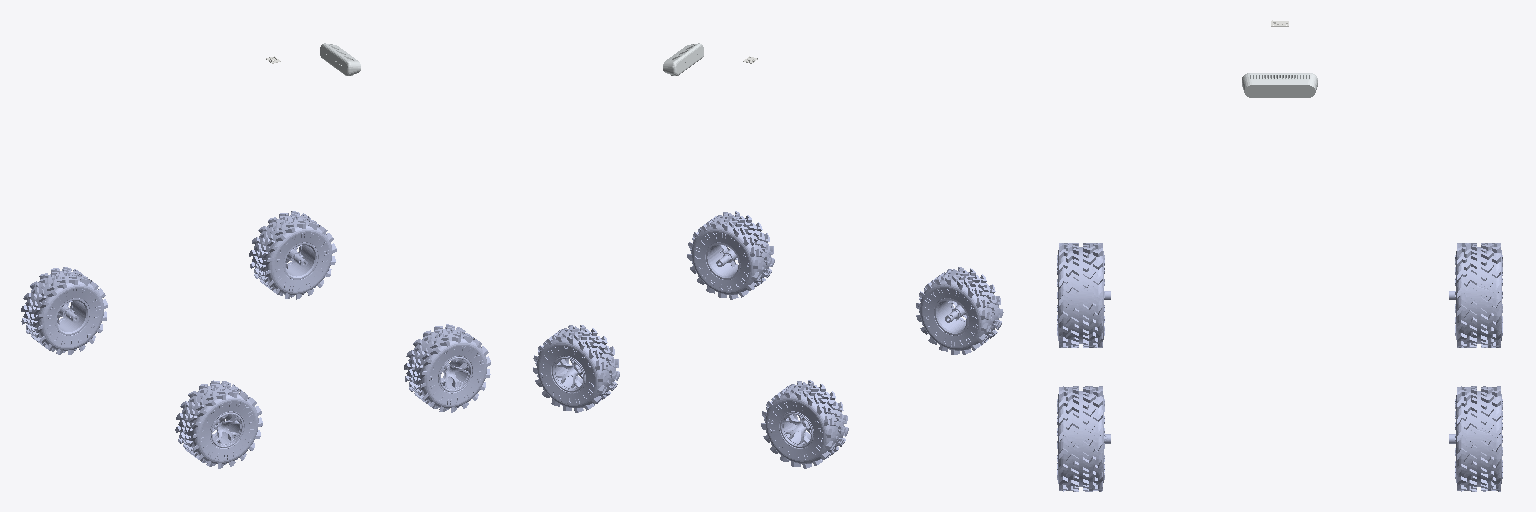
The robot description file, URDF, robot "assembly_robot":
<?xml version="1.0" encoding="utf-8"?>
<!-- This URDF was automatically created by SolidWorks to URDF Exporter! Originally created by [author] ([email redacted]) 
     Commit Version: 1.6.0-4-g7f85cfe  Build Version: 1.6.7995.38578
     For more information, please see http://wiki.ros.org/sw_urdf_exporter -->
<robot name="assembly_robot">
  <link
    name="base_link">
    <inertial>
      <origin
        xyz="-0.00607831531098264 -0.00512421696887815 -0.0263772181345172"
        rpy="0 0 0" />
      <mass
        value="2.48754704881188" />
      <inertia
        ixx="0.00465292752967977"
        ixy="-6.62893966151593E-05"
        ixz="4.42178910535028E-06"
        iyy="0.0107189940020866"
        iyz="-7.99081889825504E-09"
        izz="0.010416417249494" />
    </inertial>
    <visual>
      <origin
        xyz="0 0 0"
        rpy="0 0 0" />
      <geometry>
        <mesh
          filename="package://agri_robot_description/meshes/visual/base_link.STL" />
      </geometry>
      <material
        name="">
        <color
          rgba="0.792156862745098 0.819607843137255 0.933333333333333 1" />
      </material>
    </visual>
    <collision>
      <origin
        xyz="0 0 0"
        rpy="0 0 0" />
      <geometry>
        <mesh
          filename="package://agri_robot_description/meshes/visual/base_link.STL" />
      </geometry>
    </collision>
  </link>
  <link
    name="Lidar_Link">
    <inertial>
      <origin
        xyz="-0.000240206033289558 -0.000120539643168349 0.0151604670149083"
        rpy="0 0 0" />
      <mass
        value="0.0339052137611754" />
      <inertia
        ixx="1.94189565252121E-05"
        ixy="1.42920437917507E-09"
        ixz="4.00833228196001E-08"
        iyy="1.90727024540594E-05"
        iyz="-8.73425222883216E-10"
        izz="3.67628950450108E-05" />
    </inertial>
    <visual>
      <origin
        xyz="0 0 0"
        rpy="0 0 0" />
      <geometry>
        <mesh
          filename="package://agri_robot_description/meshes/visual/Lidar_Link.STL" />
      </geometry>
      <material
        name="">
        <color
          rgba="0 0 0 1" />
      </material>
    </visual>
    <collision>
      <origin
        xyz="0 0 0"
        rpy="0 0 0" />
      <geometry>
        <mesh
          filename="package://agri_robot_description/meshes/visual/Lidar_Link.STL" />
      </geometry>
    </collision>
  </link>
  <joint
    name="Lidar_Joint"
    type="fixed">
    <origin
      xyz="0.0815 -0.005 0.3095"
      rpy="0 0 3.14" />
    <parent
      link="base_link" />
    <child
      link="Lidar_Link" />
    <axis
      xyz="0 0 0" />
  </joint>
  <link
    name="Camera_Link">
    <inertial>
      <origin
        xyz="0.0115560001022054 1.13963025803439E-05 -0.000135981056031798"
        rpy="0 0 0" />
      <mass
        value="0.107910962085184" />
      <inertia
        ixx="7.125547603814E-05"
        ixy="-1.79323689190024E-08"
        ixz="4.92245535458186E-08"
        iyy="7.71021803909149E-06"
        iyz="-2.60666513687486E-10"
        izz="7.02570506402702E-05" />
    </inertial>
    <visual>
      <origin
        xyz="0 0 0"
        rpy="0 0 0" />
      <geometry>
        <mesh
          filename="package://agri_robot_description/meshes/visual/Camera_Link.STL" />
      </geometry>
      <material
        name="">
        <color
          rgba="0.898039215686275 0.917647058823529 0.929411764705882 1" />
      </material>
    </visual>
    <collision>
      <origin
        xyz="0 0 0"
        rpy="0 0 0" />
      <geometry>
        <mesh
          filename="package://agri_robot_description/meshes/visual/Camera_Link.STL" />
      </geometry>
    </collision>
  </link>
  <joint
    name="Camera_Joint"
    type="fixed">
    <origin
      xyz="0.12911 -0.0051242 0.28676"
      rpy="0 0.17453 0" />
    <parent
      link="base_link" />
    <child
      link="Camera_Link" />
    <axis
      xyz="0 0 0" />
  </joint>
  <link
    name="MPU_Link">
    <inertial>
      <origin
        xyz="-0.00753938070397704 0.0102879760847154 -0.00030420688882582"
        rpy="0 0 0" />
      <mass
        value="0.000351250881223519" />
      <inertia
        ixx="9.45690179472922E-09"
        ixy="-2.68793364809838E-13"
        ixz="-4.16573010640559E-25"
        iyy="5.23526656779839E-09"
        iyz="-2.56467873988509E-23"
        izz="1.46360849067925E-08" />
    </inertial>
    <visual>
      <origin
        xyz="0 0 0"
        rpy="0 0 0" />
      <geometry>
        <mesh
          filename="package://agri_robot_description/meshes/visual/MPU_Link.STL" />
      </geometry>
      <material
        name="">
        <color
          rgba="0.964705882352941 0.964705882352941 0.952941176470588 1" />
      </material>
    </visual>
    <collision>
      <origin
        xyz="0 0 0"
        rpy="0 0 0" />
      <geometry>
        <mesh
          filename="package://agri_robot_description/meshes/visual/MPU_Link.STL" />
      </geometry>
    </collision>
  </link>
  <joint
    name="MPU_Joint"
    type="fixed">
    <origin
      xyz="0.030144 -0.015255 0.31158"
      rpy="0 0 0" />
    <parent
      link="base_link" />
    <child
      link="MPU_Link" />
    <axis
      xyz="0 0 0" />
  </joint>
  <link
    name="Front_Left_Wheel_Link">
    <inertial>
      <origin
        xyz="0.0354775820566569 -1.045316723014E-06 -6.15237786466549E-07"
        rpy="0 0 0" />
      <mass
        value="0.093265100168023" />
      <inertia
        ixx="0.000225278175659469"
        ixy="-9.60114563118981E-10"
        ixz="-5.18985270835741E-10"
        iyy="0.000141708195102764"
        iyz="3.24185964365183E-10"
        izz="0.000141707983353066" />
    </inertial>
    <visual>
      <origin
        xyz="0 0 0"
        rpy="0 0 0" />
      <geometry>
        <mesh
          filename="package://agri_robot_description/meshes/visual/Front_Left_Wheel_Link.STL" />
      </geometry>
      <material
        name="">
        <color
          rgba="0.792156862745098 0.819607843137255 0.933333333333333 1" />
      </material>
    </visual>
    <collision>
      <origin
        xyz="0 0 0"
        rpy="0 0 0" />
      <geometry>
        <mesh
          filename="package://agri_robot_description/meshes/visual/Front_Left_Wheel_Link.STL" />
      </geometry>
    </collision>
  </link>
  <joint
    name="Front_Left_Wheel_Joint"
    type="fixed">
    <origin
      xyz="0.19358 0.19656 -0.15442"
      rpy="0 0 1.5708" />
    <parent
      link="base_link" />
    <child
      link="Front_Left_Wheel_Link" />
    <axis
      xyz="0 0 0" />
  </joint>
  <link
    name="Front_Right_Wheel_Link">
    <inertial>
      <origin
        xyz="0.0354775820565962 -1.04531662940832E-06 -6.1523790778617E-07"
        rpy="0 0 0" />
      <mass
        value="0.093265100167896" />
      <inertia
        ixx="0.000225278175659321"
        ixy="-9.60114660738585E-10"
        ixz="-5.18985183119554E-10"
        iyy="0.00014170819510267"
        iyz="3.24185872685103E-10"
        izz="0.000141707983352871" />
    </inertial>
    <visual>
      <origin
        xyz="0 0 0"
        rpy="0 0 0" />
      <geometry>
        <mesh
          filename="package://agri_robot_description/meshes/visual/Front_Right_Wheel_Link.STL" />
      </geometry>
      <material
        name="">
        <color
          rgba="0.792156862745098 0.819607843137255 0.933333333333333 1" />
      </material>
    </visual>
    <collision>
      <origin
        xyz="0 0 0"
        rpy="0 0 0" />
      <geometry>
        <mesh
          filename="package://agri_robot_description/meshes/visual/Front_Right_Wheel_Link.STL" />
      </geometry>
    </collision>
  </link>
  <joint
    name="Front_Right_Wheel_Joint"
    type="fixed">
    <origin
      xyz="0.19358 -0.2068 -0.15442"
      rpy="0 0 -1.5708" />
    <parent
      link="base_link" />
    <child
      link="Front_Right_Wheel_Link" />
    <axis
      xyz="0 0 0" />
  </joint>
  <link
    name="Rear_Left_Wheel_Link">
    <inertial>
      <origin
        xyz="0.0354775820566849 -1.0453167693103E-06 -6.15237769507893E-07"
        rpy="0 0 0" />
      <mass
        value="0.0932651001684448" />
      <inertia
        ixx="0.000225278175659472"
        ixy="-9.6011453288276E-10"
        ixz="-5.18985305436607E-10"
        iyy="0.000141708195102837"
        iyz="3.24185952075996E-10"
        izz="0.000141707983353001" />
    </inertial>
    <visual>
      <origin
        xyz="0 0 0"
        rpy="0 0 0" />
      <geometry>
        <mesh
          filename="package://agri_robot_description/meshes/visual/Rear_Left_Wheel_Link.STL" />
      </geometry>
      <material
        name="">
        <color
          rgba="0.792156862745098 0.819607843137255 0.933333333333333 1" />
      </material>
    </visual>
    <collision>
      <origin
        xyz="0 0 0"
        rpy="0 0 0" />
      <geometry>
        <mesh
          filename="package://agri_robot_description/meshes/visual/Rear_Left_Wheel_Link.STL" />
      </geometry>
    </collision>
  </link>
  <joint
    name="Rear_Left_Wheel_Link"
    type="fixed">
    <origin
      xyz="-0.21042 0.19656 -0.15442"
      rpy="0 0 1.5708" />
    <parent
      link="base_link" />
    <child
      link="Rear_Left_Wheel_Link" />
    <axis
      xyz="0 0 0" />
  </joint>
  <link
    name="Rear_Right_Wheel_Link">
    <inertial>
      <origin
        xyz="0.0354775820466632 -1.04527652980413E-06 -6.15225794031726E-07"
        rpy="0 0 0" />
      <mass
        value="0.0932651001664936" />
      <inertia
        ixx="0.000225278175672297"
        ixy="-9.60324391270414E-10"
        ixz="-5.18985118068264E-10"
        iyy="0.000141708195107804"
        iyz="3.24189897011909E-10"
        izz="0.000141707983376632" />
    </inertial>
    <visual>
      <origin
        xyz="0 0 0"
        rpy="0 0 0" />
      <geometry>
        <mesh
          filename="package://agri_robot_description/meshes/visual/Rear_Right_Wheel_Link.STL" />
      </geometry>
      <material
        name="">
        <color
          rgba="0.792156862745098 0.819607843137255 0.933333333333333 1" />
      </material>
    </visual>
    <collision>
      <origin
        xyz="0 0 0"
        rpy="0 0 0" />
      <geometry>
        <mesh
          filename="package://agri_robot_description/meshes/visual/Rear_Right_Wheel_Link.STL" />
      </geometry>
    </collision>
  </link>
  <joint
    name="Rear_Right_Wheel_Joint"
    type="fixed">
    <origin
      xyz="-0.21042 -0.2068 -0.15442"
      rpy="1.6003 0 -1.5708" />
    <parent
      link="base_link" />
    <child
      link="Rear_Right_Wheel_Link" />
    <axis
      xyz="0 0 0" />
  </joint>
</robot>

--- Facts derived from the render (not from the file) ---
Views: 3 orthographic renders of the robot side by side, from view 1: azimuth 30°, elevation 25°; view 2: azimuth 150°, elevation 25°; view 3: azimuth 270°, elevation 25°.
Model assembly_robot with 8 links and 7 joints (7 fixed), rooted at base_link, posed every joint at zero.
Visible links, largest first — view 1: Rear_Right_Wheel_Link, Rear_Left_Wheel_Link, Front_Left_Wheel_Link, Front_Right_Wheel_Link, Camera_Link; view 2: Rear_Left_Wheel_Link, Rear_Right_Wheel_Link, Front_Right_Wheel_Link, Front_Left_Wheel_Link, Camera_Link; view 3: Rear_Left_Wheel_Link, Front_Right_Wheel_Link, Rear_Right_Wheel_Link, Front_Left_Wheel_Link, Camera_Link.
Link boxes in pixels (x1=…): Rear_Right_Wheel_Link: x1=175, y1=380, x2=262, y2=468; Rear_Left_Wheel_Link: x1=21, y1=267, x2=107, y2=354; Front_Left_Wheel_Link: x1=249, y1=211, x2=336, y2=299; Front_Right_Wheel_Link: x1=404, y1=324, x2=490, y2=412; Camera_Link: x1=320, y1=43, x2=360, y2=75; Rear_Left_Wheel_Link: x1=761, y1=380, x2=848, y2=468; Rear_Right_Wheel_Link: x1=916, y1=267, x2=1003, y2=354; Front_Right_Wheel_Link: x1=687, y1=211, x2=774, y2=299; Front_Left_Wheel_Link: x1=533, y1=325, x2=619, y2=412; Camera_Link: x1=663, y1=43, x2=703, y2=75; Rear_Left_Wheel_Link: x1=1449, y1=243, x2=1502, y2=347; Front_Right_Wheel_Link: x1=1057, y1=386, x2=1110, y2=491; Rear_Right_Wheel_Link: x1=1057, y1=243, x2=1110, y2=347; Front_Left_Wheel_Link: x1=1449, y1=386, x2=1502, y2=491; Camera_Link: x1=1242, y1=73, x2=1317, y2=97.
Size in the robot's own frame: 0.529 by 0.5318 by 0.5295 metres.
6 mesh visuals loaded from 8 distinct referenced files (6 binary STL); not drawn: 2 (reference not matched to a file when rendering).